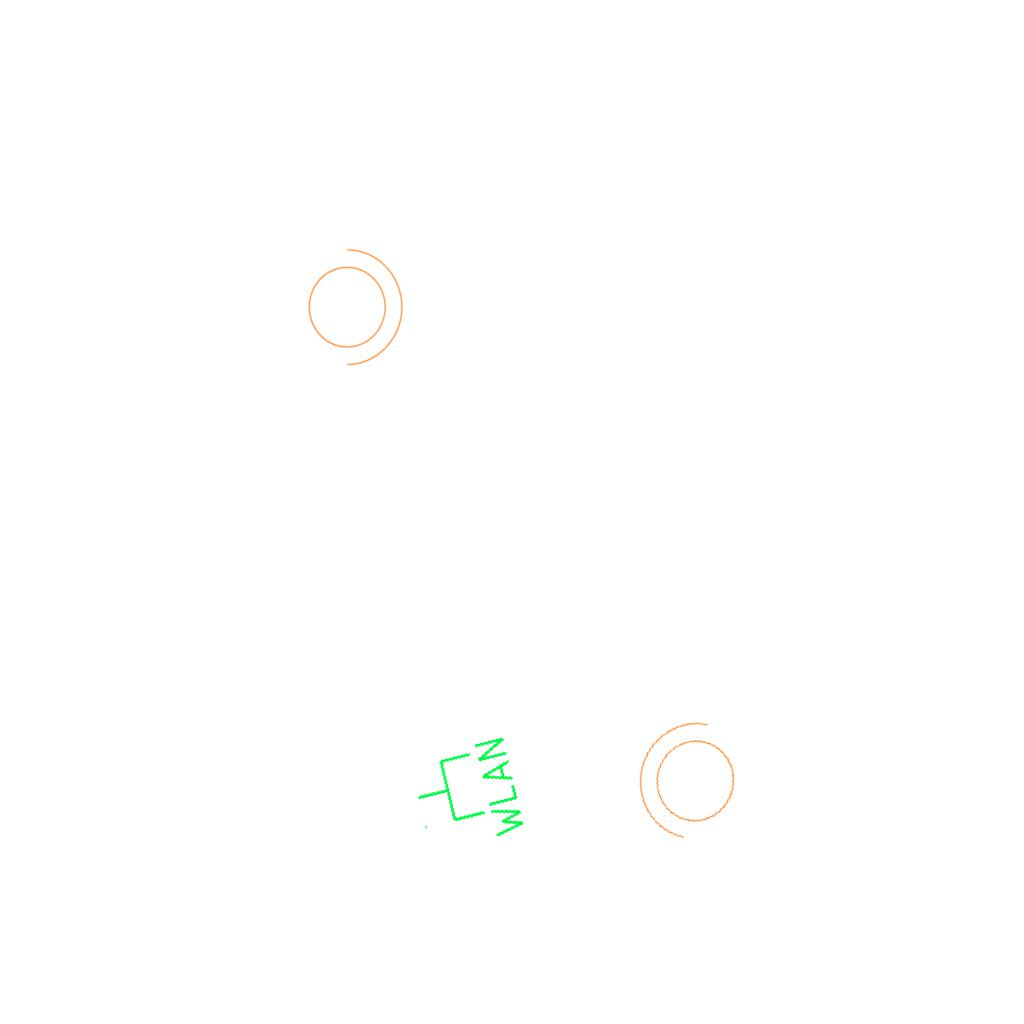Scheinwerfer_fuer_Alarmbeleuchtung: (621, 706, 759, 860), (296, 238, 408, 370)
WLAN: (404, 731, 532, 860)
